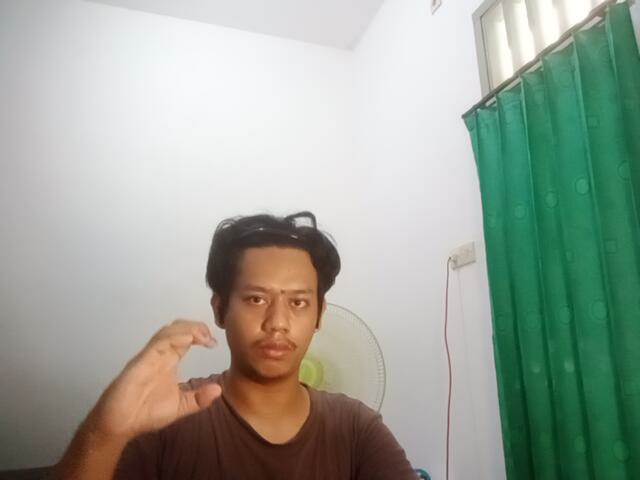C: (94, 316, 235, 425)
